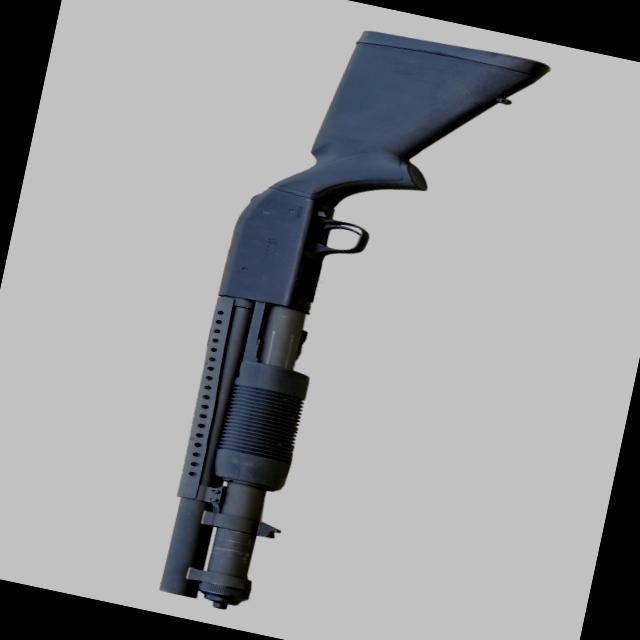long weapon: (100, 0, 552, 640)
